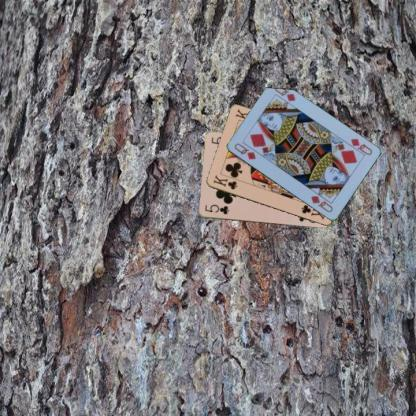5c: (202, 202, 230, 216)
Kc: (210, 172, 239, 191)
Qd: (343, 136, 373, 157), (231, 140, 257, 162)
